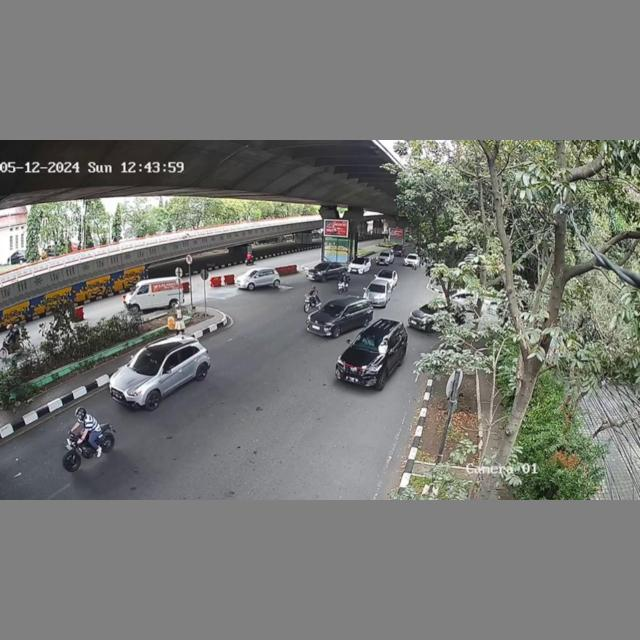windshield: (351, 330, 389, 357), (130, 348, 163, 374), (316, 300, 347, 318)
